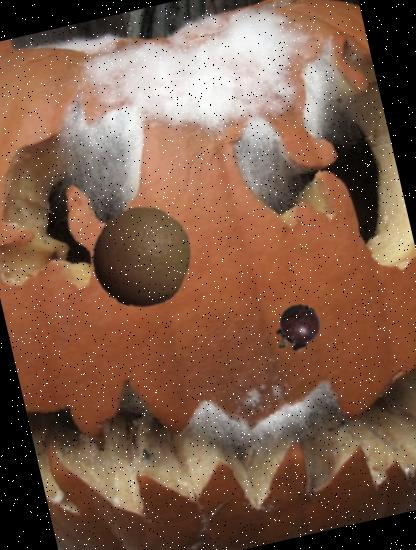Mangostan: (266, 298, 328, 359)
Orange: (80, 196, 202, 318)
